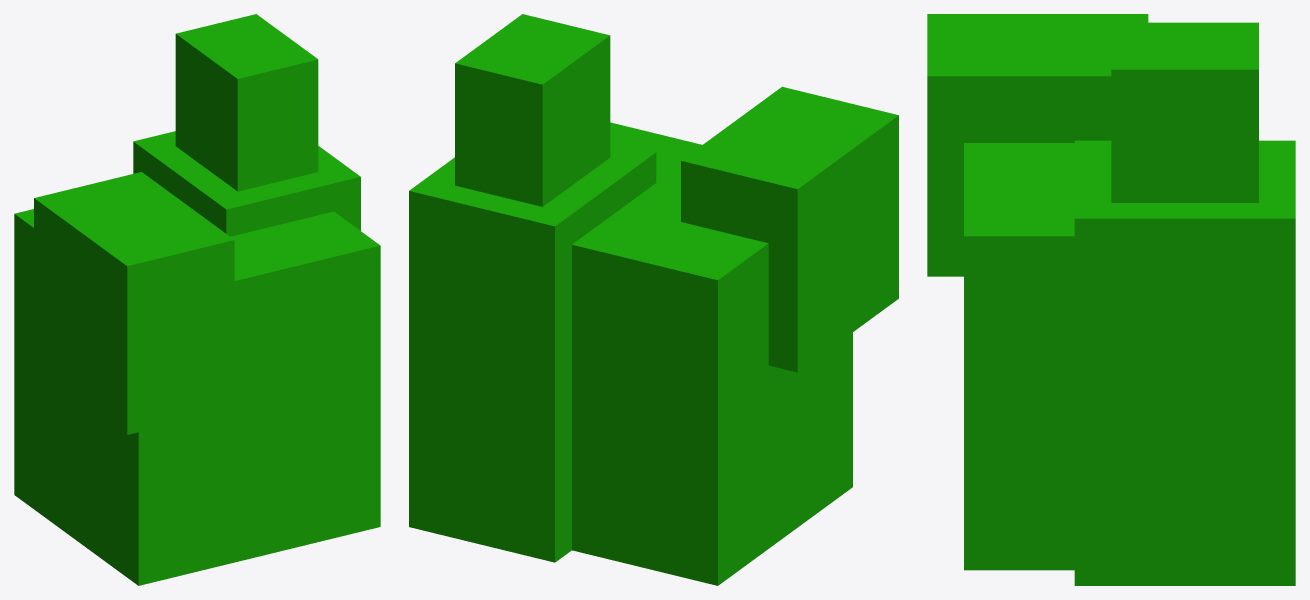
The model's file is Bush_03.obj.
The picture shows the model from 3 angles, left to right: view 1: azimuth 30°, elevation 25°; view 2: azimuth 150°, elevation 25°; view 3: azimuth 270°, elevation 25°; orthographic projection. The views are drawn at different scales.
Bounding box in the file's own units: 1.1 × 1.5 × 1.
1 material, 1 textured.
